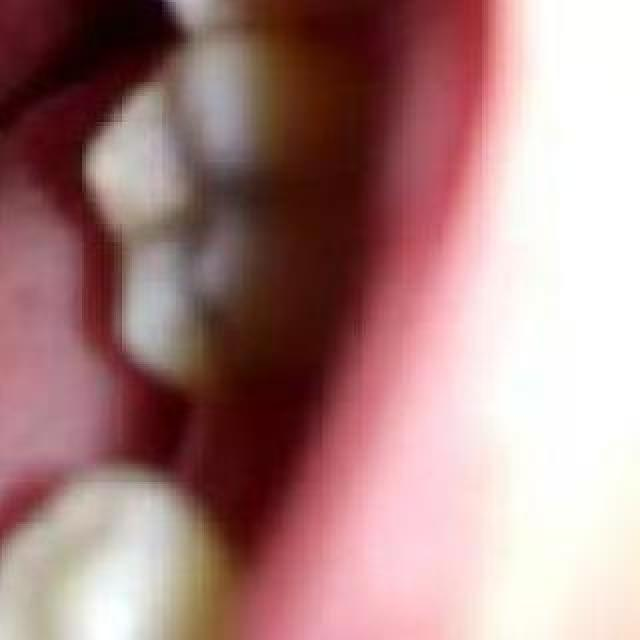cavities: (149, 135, 275, 259)
missing: (98, 307, 362, 475)
